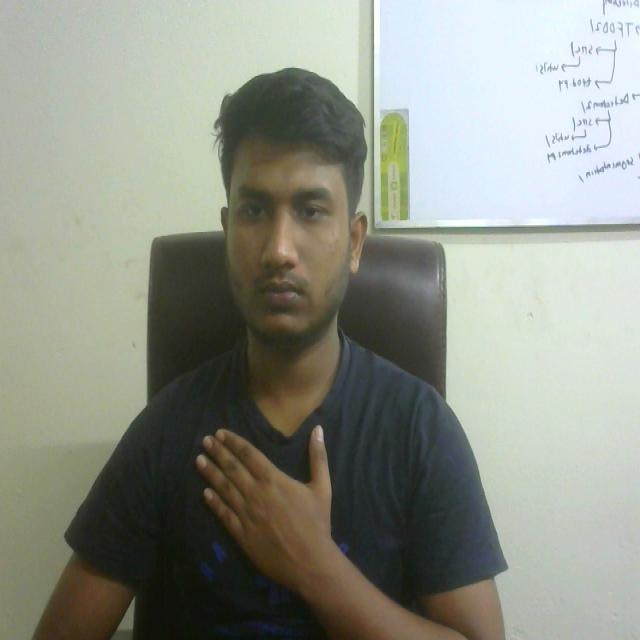E: (189, 412, 343, 595)
